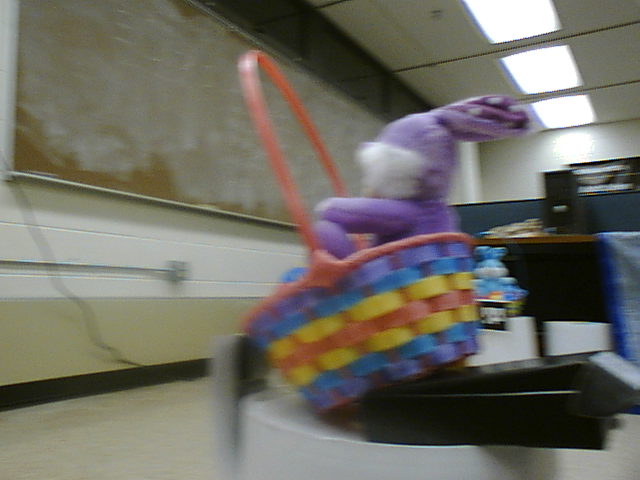bunny: (227, 46, 526, 429), (476, 229, 526, 306)
